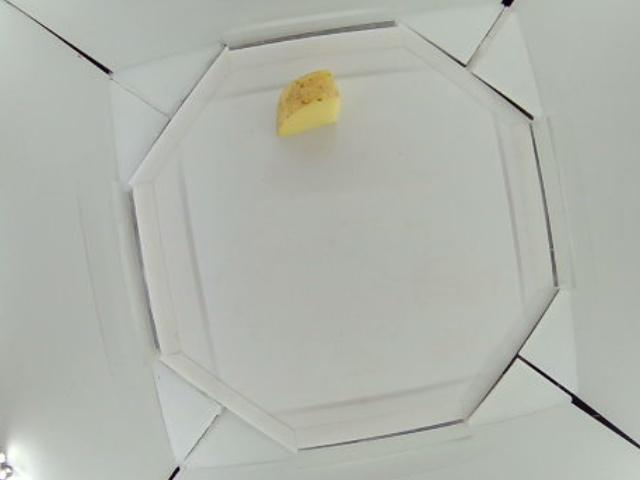Potato: (277, 72, 342, 135)
